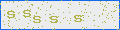s: (7, 11, 16, 19), (49, 16, 58, 23), (74, 15, 82, 22), (33, 16, 41, 23), (23, 10, 31, 17)
